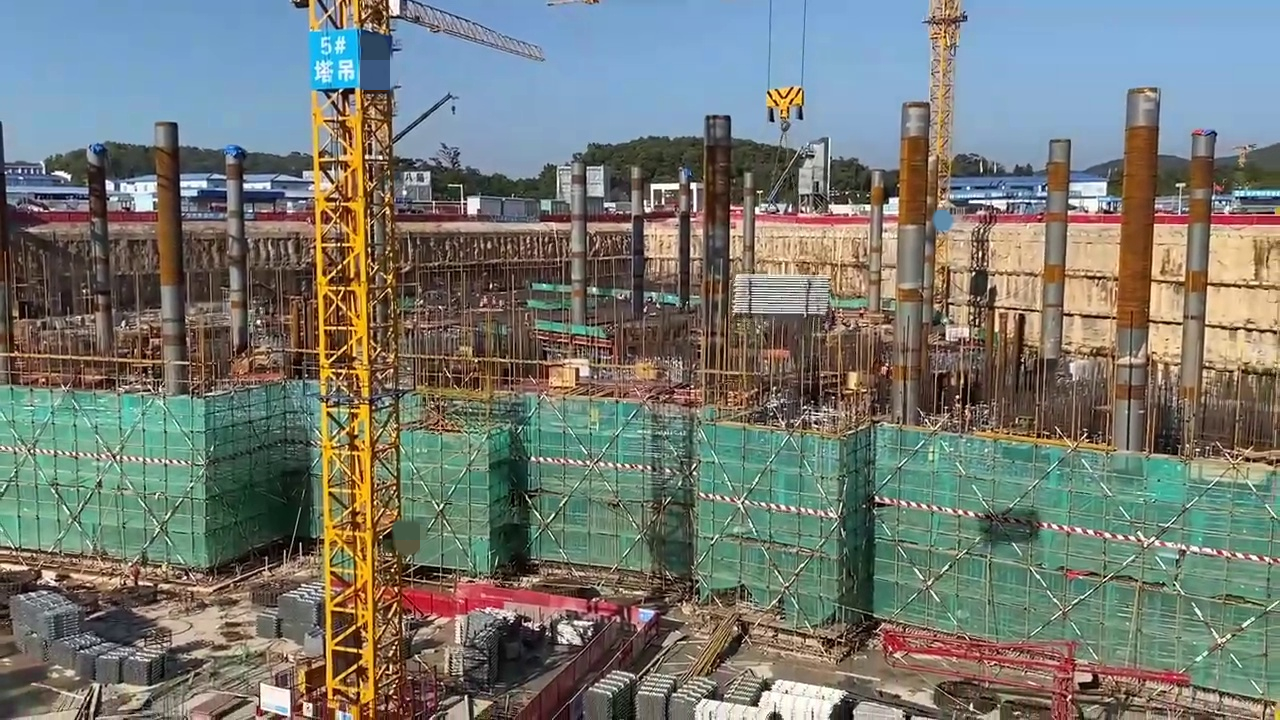fence: (461, 579, 639, 620), (404, 587, 458, 614)
hook: (764, 84, 806, 119)
scaffold: (7, 590, 161, 684), (733, 272, 833, 315), (280, 582, 326, 648), (586, 666, 630, 720), (636, 672, 670, 720), (676, 673, 703, 720), (727, 673, 764, 707)
